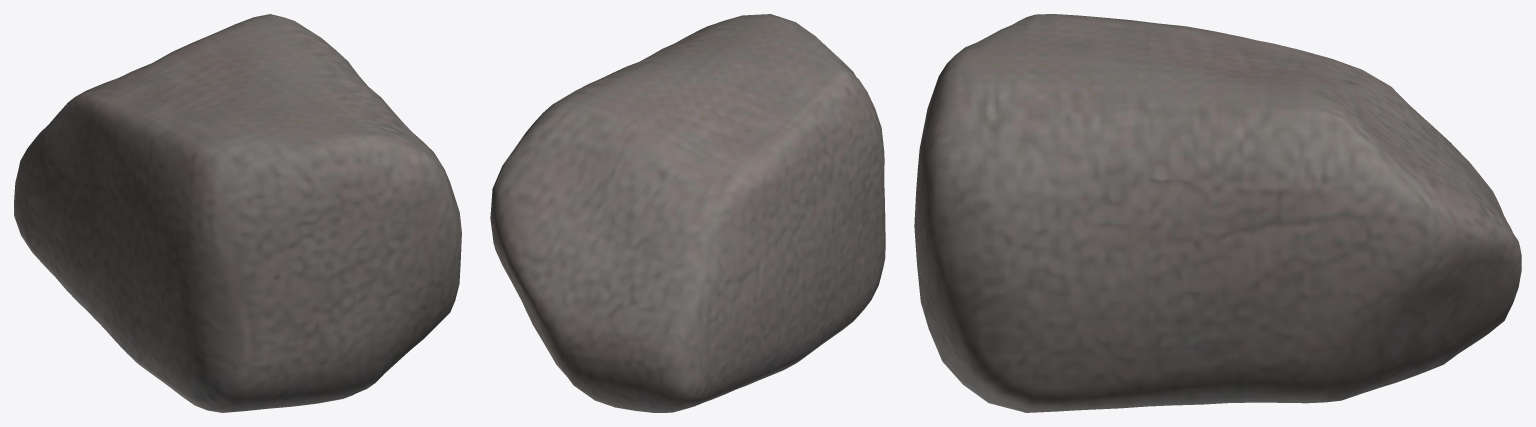
The model's file is stone_03.glb.
The picture shows the model from 3 angles, left to right: view 1: azimuth 30°, elevation 25°; view 2: azimuth 150°, elevation 25°; view 3: azimuth 270°, elevation 25°; orthographic projection. The views are drawn at different scales.
Visible parts, largest first — view 1: mesh; view 2: mesh; view 3: mesh.
Boxes of the visible parts, x1,y1,x2,y2 form: mesh: (14,14,461,412); mesh: (490,14,885,412); mesh: (914,14,1521,412).
Bounding box in the file's own units: 0.61 × 0.6148 × 0.9977.
1 material, 1 textured.
